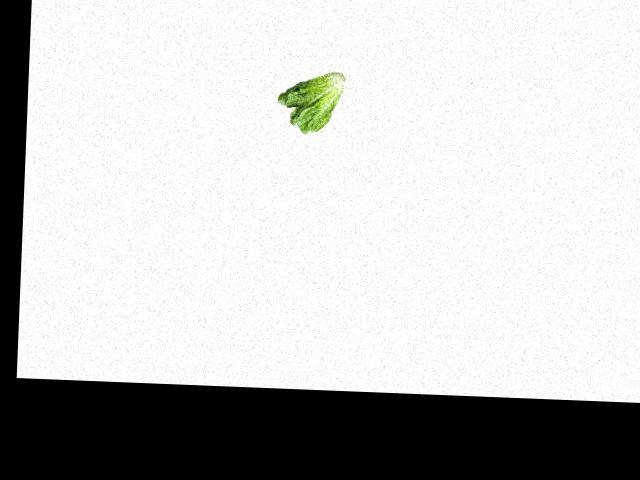lettuce: (276, 68, 348, 144)
